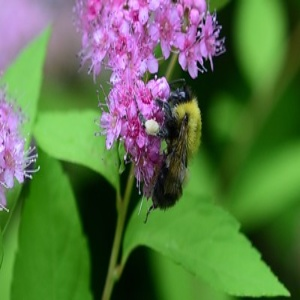bee: (149, 77, 206, 228)
